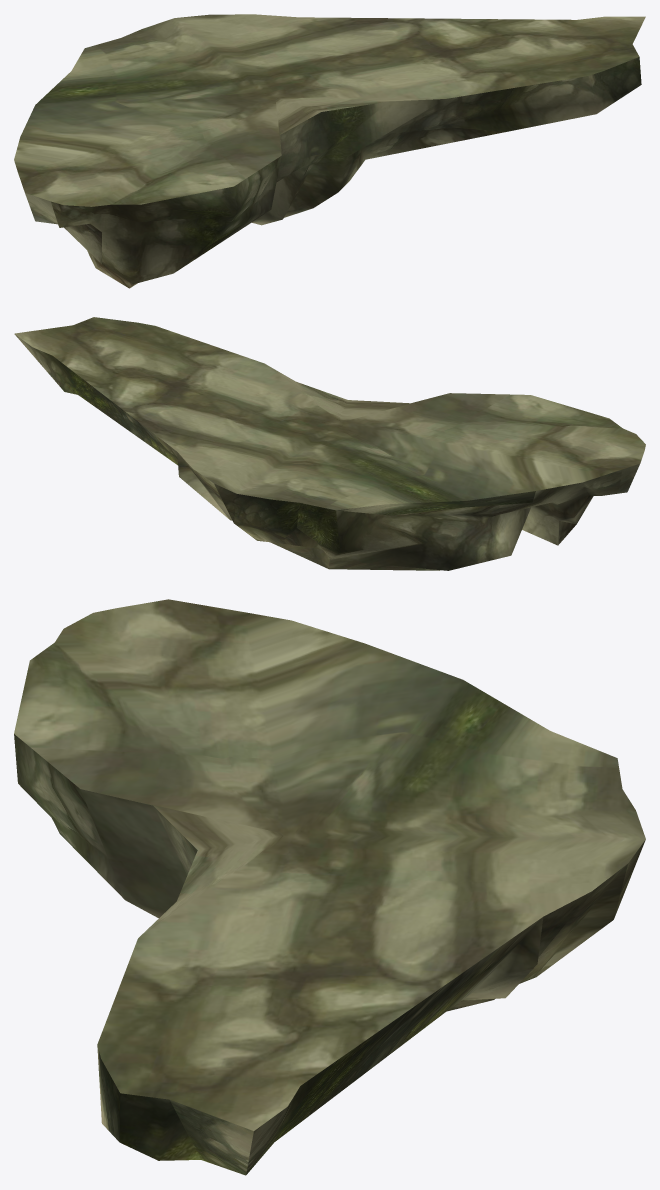
File: test_road02.FBX
3 views of the same model, one above another, from view 1: azimuth 30°, elevation 25°; view 2: azimuth 150°, elevation 25°; view 3: azimuth 270°, elevation 25° (orthographic). The views are drawn at different scales.
Visible parts, largest first — view 1: ZQ_ygzm_yunshi03_wyb01; view 2: ZQ_ygzm_yunshi03_wyb01; view 3: ZQ_ygzm_yunshi03_wyb01.
Part boxes in pixels (x1,y1,x2,y2): ZQ_ygzm_yunshi03_wyb01: (14, 14, 645, 288); ZQ_ygzm_yunshi03_wyb01: (14, 317, 645, 570); ZQ_ygzm_yunshi03_wyb01: (14, 599, 645, 1175).
Size of the model in its own units: 36.44 by 18.3 by 6.72.
